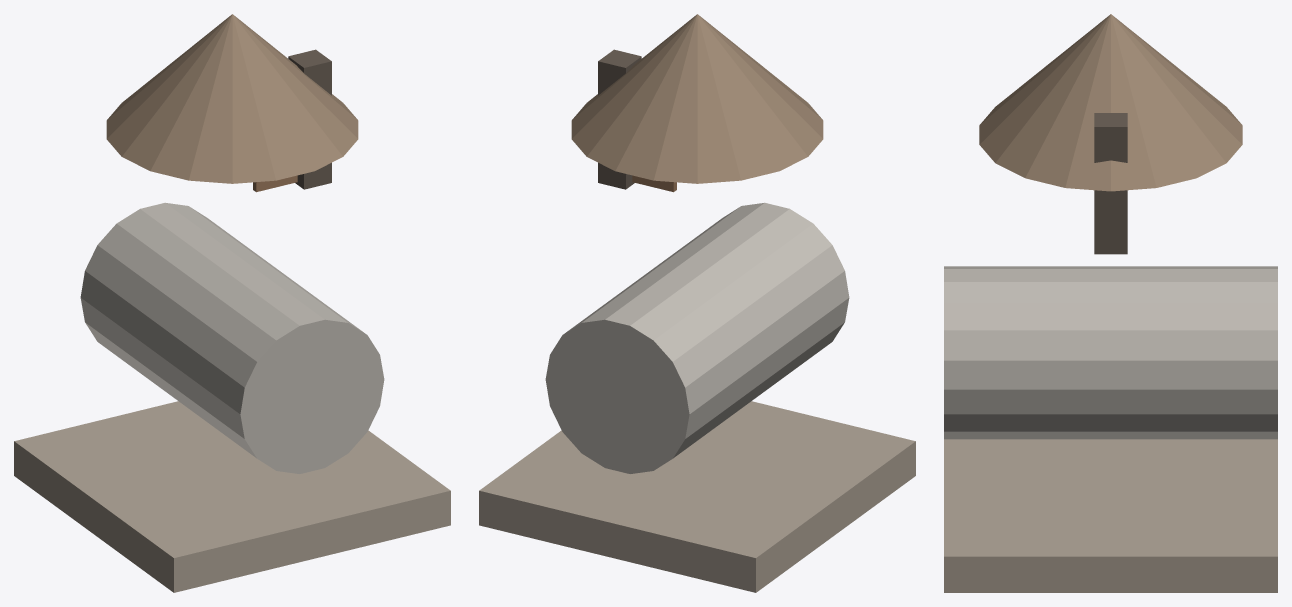
Rendered from archer_tower.glb.
3 views of the same model, side by side, from view 1: azimuth 30°, elevation 25°; view 2: azimuth 150°, elevation 25°; view 3: azimuth 270°, elevation 25° (orthographic). The views are drawn at different scales.
Parts seen in each view (by area): view 1: g1, g0, g2, g3; view 2: g1, g0, g2, g3; view 3: g1, g0, g2, g3.
Boxes of the visible parts, x1,y1,x2,y2 form: g1: [80, 202, 384, 473]; g0: [14, 401, 450, 592]; g2: [106, 14, 358, 183]; g3: [288, 49, 331, 189]; g1: [545, 202, 849, 473]; g0: [479, 401, 915, 592]; g2: [571, 14, 823, 183]; g3: [598, 49, 641, 189]; g1: [944, 266, 1277, 439]; g0: [944, 439, 1277, 592]; g2: [979, 14, 1242, 191]; g3: [1094, 113, 1127, 254].
Bounding box in the file's own units: 1 × 1.68 × 1.
